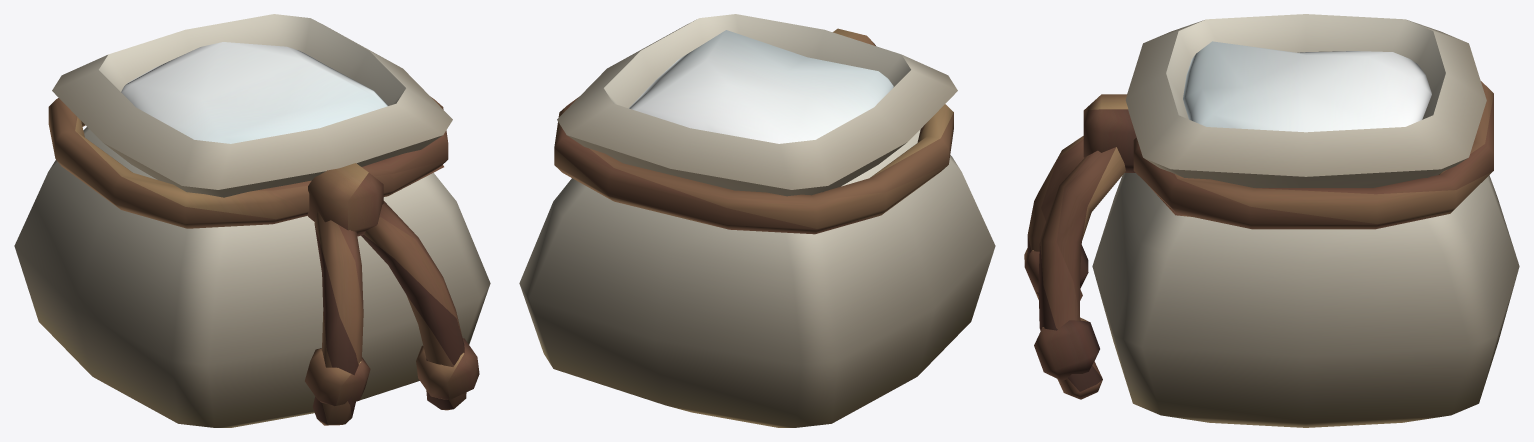
The model's file is sack_flour.fbx.
The picture shows the model from 3 angles, left to right: view 1: azimuth 30°, elevation 25°; view 2: azimuth 150°, elevation 25°; view 3: azimuth 270°, elevation 25°; orthographic projection. The views are drawn at different scales.
Visible parts, largest first — view 1: sack_flour; view 2: sack_flour; view 3: sack_flour.
Part boxes in pixels (box(x1,y1,x2,y2)): sack_flour: box(14, 14, 490, 427); sack_flour: box(519, 14, 995, 427); sack_flour: box(1024, 14, 1519, 427).
Size of the model in its own units: 63.69 by 51.56 by 73.83.
